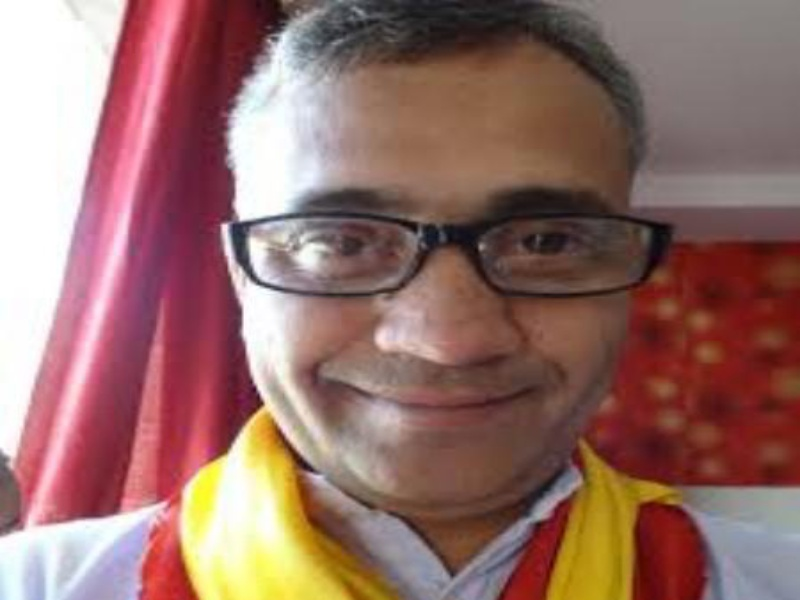TsisyArotava: (208, 8, 676, 518)
